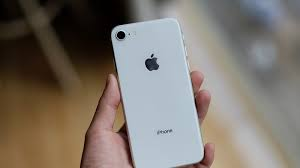iphone: (108, 13, 209, 168)
